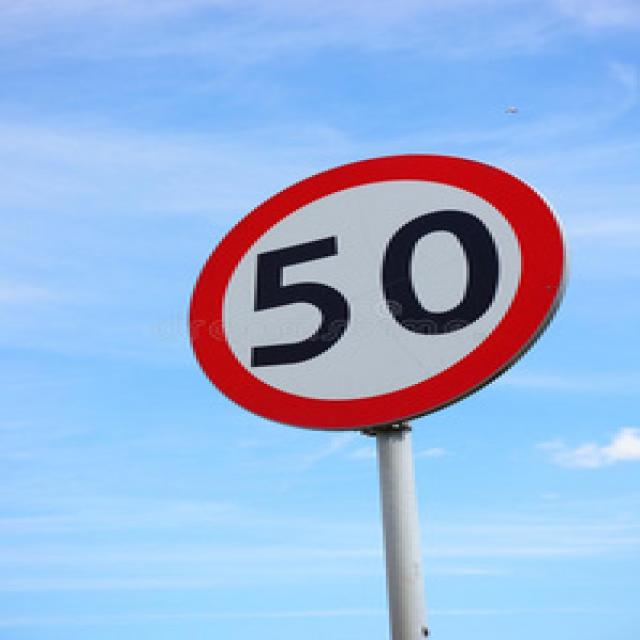speed limit 50: (186, 154, 566, 431)
